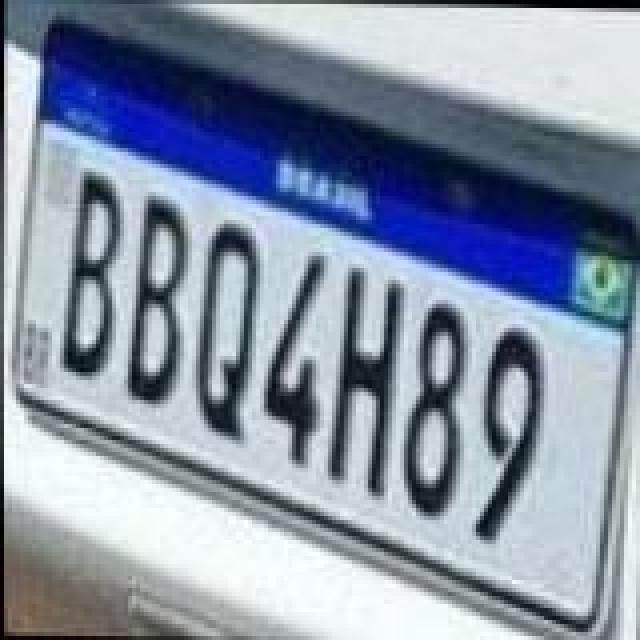4: (264, 250, 332, 466)
8: (402, 296, 470, 520)
9: (470, 320, 554, 540)
B: (122, 188, 194, 408), (54, 172, 126, 380)
H: (326, 260, 414, 496)
Q: (192, 218, 268, 446)
